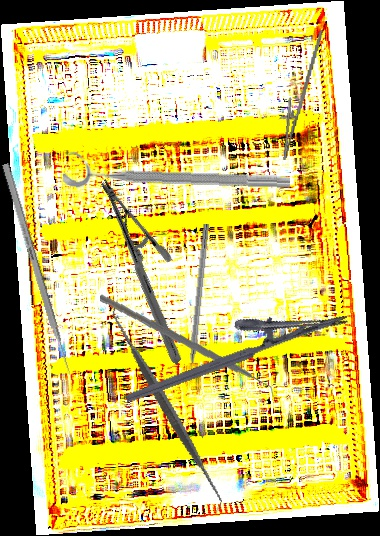Chopper: (99, 282, 276, 418)
Fixation Ring: (62, 149, 291, 195)
Hook Surgical: (184, 223, 211, 389)
Needle Holder: (42, 179, 240, 365), (113, 284, 350, 404), (272, 25, 324, 164)
Pusher: (1, 162, 77, 388)
Spatula Surgical: (59, 300, 275, 513)
